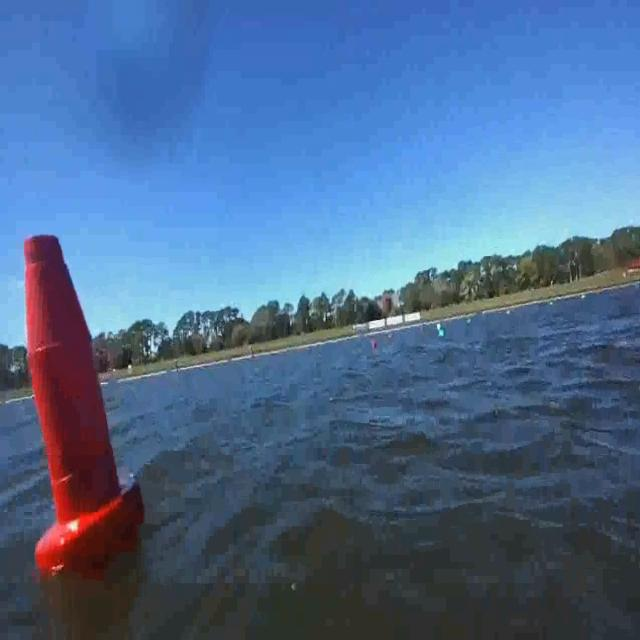red-column-buoy: (25, 226, 149, 574)
